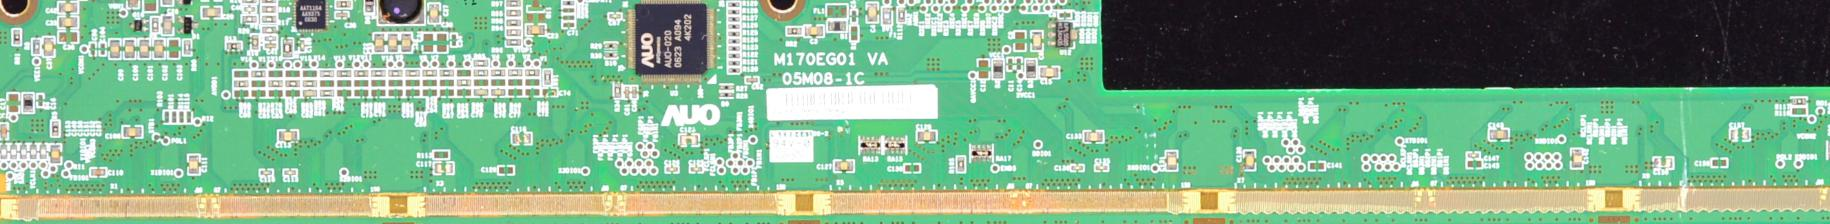Capacitor Jumper: (137, 38, 151, 60), (109, 38, 123, 60), (188, 154, 201, 176), (200, 7, 222, 20), (803, 24, 825, 37), (152, 38, 165, 60), (123, 38, 135, 60), (977, 58, 990, 79), (123, 125, 144, 138), (278, 128, 299, 141), (915, 129, 936, 142), (1083, 131, 1104, 143), (433, 161, 454, 174), (57, 16, 79, 28), (865, 3, 878, 23), (42, 38, 56, 56), (167, 38, 179, 60), (1488, 128, 1509, 140), (1730, 129, 1751, 141), (511, 133, 532, 145), (49, 143, 61, 164), (1244, 150, 1256, 171), (1166, 150, 1178, 171), (1653, 157, 1674, 169), (161, 14, 173, 35), (386, 32, 398, 52), (1040, 66, 1060, 78), (7, 92, 19, 112), (834, 160, 854, 171), (58, 2, 78, 14), (57, 30, 77, 42), (1031, 32, 1042, 51), (1013, 32, 1025, 51), (422, 33, 434, 52), (436, 32, 447, 52), (428, 3, 440, 22), (400, 33, 412, 51), (1572, 148, 1583, 168), (373, 33, 384, 52), (89, 167, 105, 177), (903, 163, 921, 173), (285, 87, 300, 98), (405, 87, 421, 97), (231, 89, 249, 97), (0, 123, 8, 140), (267, 89, 282, 98), (354, 89, 369, 98), (28, 143, 37, 159), (39, 143, 48, 159), (1309, 161, 1325, 170), (490, 87, 507, 96), (1711, 159, 1727, 167), (1467, 160, 1483, 168), (127, 0, 141, 9), (542, 87, 557, 96), (455, 87, 470, 96), (387, 87, 403, 96), (370, 89, 385, 97), (19, 142, 27, 157), (9, 143, 18, 159), (1095, 163, 1110, 171), (496, 167, 514, 174), (524, 87, 540, 94), (472, 87, 488, 94), (508, 87, 522, 96), (302, 87, 316, 96), (251, 89, 265, 97), (258, 169, 272, 177), (243, 5, 257, 13), (335, 10, 349, 19), (608, 12, 622, 20), (422, 89, 438, 96), (0, 143, 7, 159), (281, 168, 296, 175), (98, 42, 105, 56), (440, 87, 454, 94), (630, 85, 637, 99), (261, 43, 278, 49), (746, 77, 759, 84), (36, 93, 43, 106), (1467, 152, 1480, 159), (1071, 164, 1084, 171), (563, 21, 575, 28), (89, 42, 95, 56), (623, 85, 629, 99), (160, 0, 174, 6), (1015, 57, 1021, 70), (1007, 57, 1013, 70)
IC: (626, 0, 718, 84), (292, 0, 329, 32)
Resistor Jumper: (22, 92, 34, 113), (281, 38, 294, 57), (526, 24, 546, 36), (542, 68, 552, 86), (955, 155, 965, 173), (144, 0, 158, 13), (334, 0, 352, 9), (319, 68, 335, 78), (260, 14, 278, 23), (524, 68, 540, 77), (433, 149, 449, 159), (896, 7, 906, 23), (251, 33, 259, 51), (224, 41, 242, 49), (473, 68, 488, 77), (613, 83, 622, 98), (490, 68, 507, 76), (405, 69, 421, 77), (352, 69, 369, 77), (489, 78, 505, 86), (284, 78, 300, 86), (455, 79, 472, 87), (319, 87, 335, 96), (505, 0, 522, 8), (785, 27, 802, 35), (440, 68, 454, 77), (422, 68, 436, 77), (508, 68, 523, 76), (387, 69, 403, 77), (302, 69, 317, 77), (336, 69, 351, 77), (370, 69, 385, 77), (285, 70, 300, 78), (251, 70, 266, 78), (233, 70, 249, 78), (267, 70, 282, 78), (507, 78, 522, 86), (301, 78, 316, 86), (421, 79, 436, 87), (387, 79, 403, 87), (370, 79, 385, 87), (1790, 97, 1805, 105), (505, 9, 521, 17), (242, 15, 257, 23), (151, 17, 159, 33), (505, 28, 521, 36), (1790, 107, 1808, 114), (261, 26, 279, 33), (182, 38, 189, 55), (456, 69, 470, 77), (523, 78, 539, 85), (404, 78, 420, 85), (439, 78, 453, 86), (352, 79, 366, 87), (319, 79, 335, 86), (250, 80, 266, 87), (507, 19, 521, 27), (473, 78, 488, 85), (336, 79, 351, 86), (268, 79, 284, 86), (233, 80, 249, 87), (263, 35, 278, 42), (727, 51, 740, 60), (184, 111, 193, 124), (505, 40, 523, 45), (474, 58, 488, 65), (727, 66, 740, 73), (561, 0, 577, 6), (260, 6, 275, 12), (605, 51, 619, 57), (719, 84, 733, 90), (719, 92, 733, 98), (177, 108, 183, 123), (170, 110, 176, 124), (726, 9, 740, 15), (726, 23, 740, 29), (727, 38, 741, 44), (298, 38, 303, 52), (242, 0, 258, 5), (727, 60, 740, 65), (727, 30, 740, 36), (603, 42, 616, 48), (727, 1, 739, 7), (726, 45, 740, 50), (260, 0, 279, 3), (163, 110, 168, 123), (727, 16, 740, 21)
Transistor: (177, 15, 201, 35), (130, 17, 149, 33), (179, 0, 200, 6)
